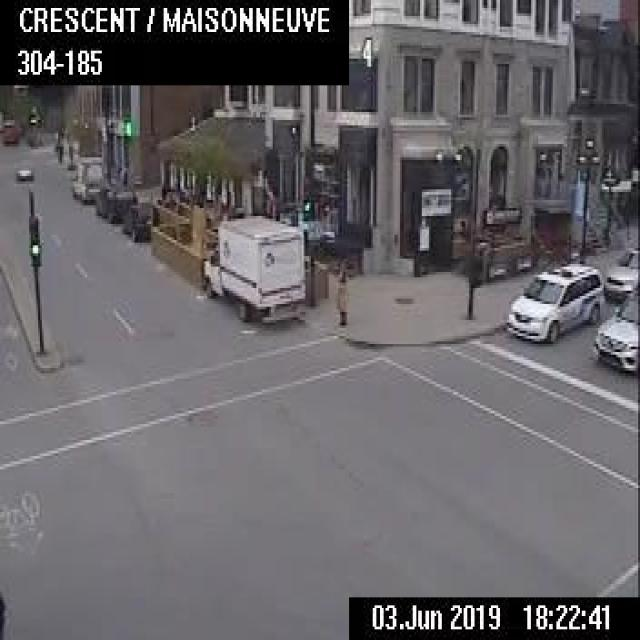cyclist: (55, 140, 63, 162)
pedestrian: (333, 253, 347, 326)
vehicle: (200, 210, 304, 322), (505, 261, 602, 342), (593, 289, 638, 371), (602, 243, 638, 299), (120, 200, 159, 241), (95, 184, 136, 220), (71, 154, 102, 197), (2, 116, 19, 144), (0, 591, 7, 637), (28, 128, 44, 145), (15, 164, 33, 179)
